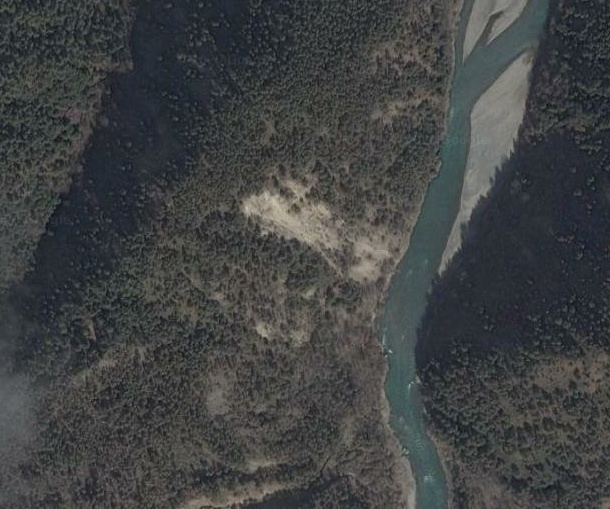slope: (238, 169, 387, 291)
